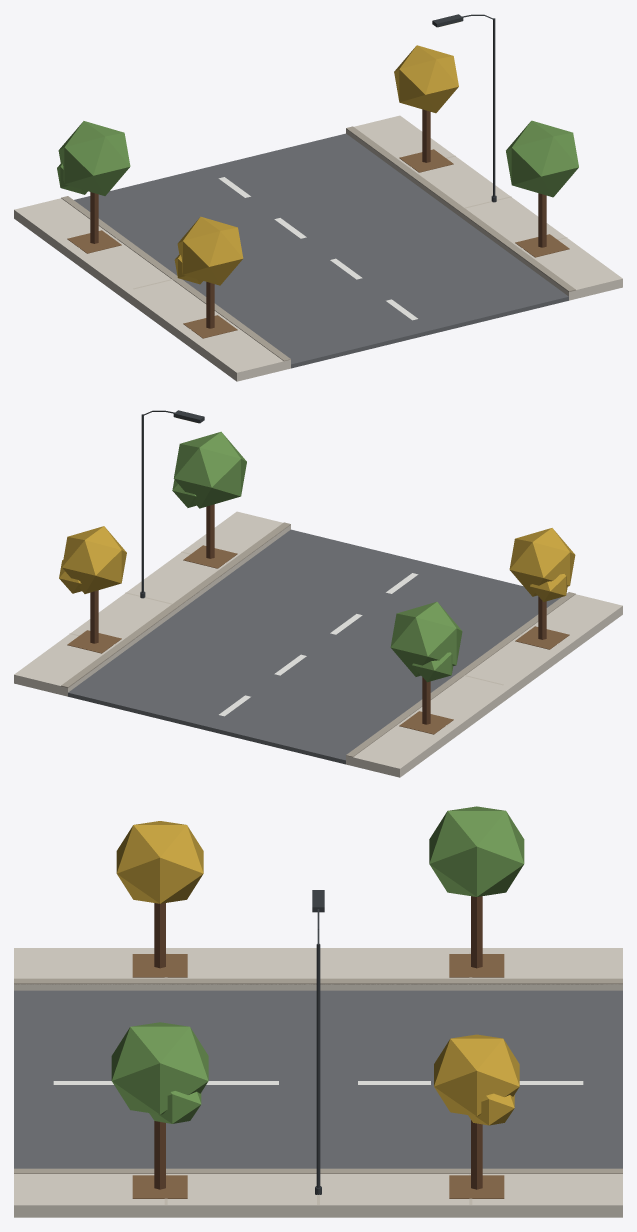
File: Yol_lane_agacli_Hafif.fbx
3 renders of one model, top to bottom at view 1: azimuth 30°, elevation 25°; view 2: azimuth 150°, elevation 25°; view 3: azimuth 270°, elevation 25°, orthographic. The views are drawn at different scales.
Parts seen in each view (by area): view 1: Yol_lane_agacli_Hafif; view 2: Yol_lane_agacli_Hafif; view 3: Yol_lane_agacli_Hafif.
Boxes of the visible parts, left/top/right/bottom form: Yol_lane_agacli_Hafif: left=14, top=14, right=622, bottom=381; Yol_lane_agacli_Hafif: left=14, top=410, right=622, bottom=777; Yol_lane_agacli_Hafif: left=14, top=806, right=622, bottom=1217.
Size of the model in its own units: 10.17 by 5.01 by 10.
